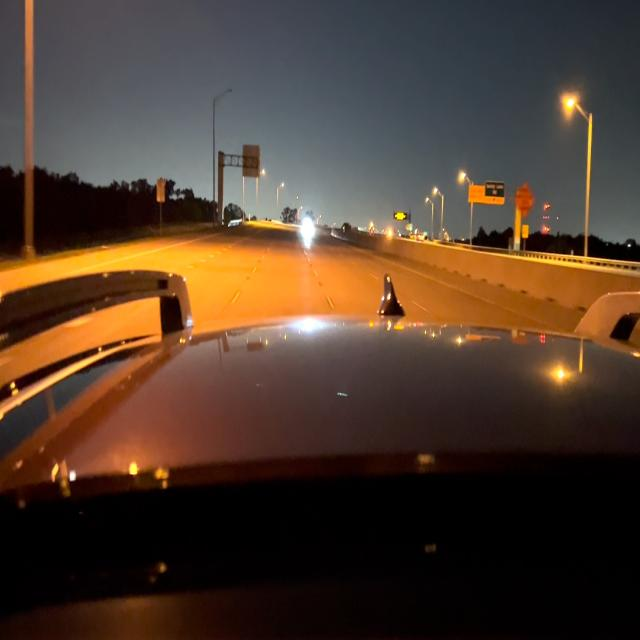back-of-sign: (239, 138, 264, 184), (155, 177, 167, 205)
